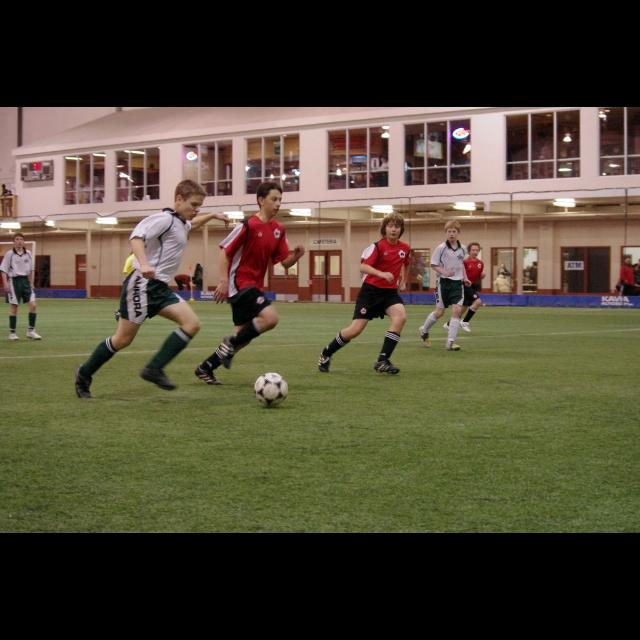Football: (253, 370, 289, 408)
